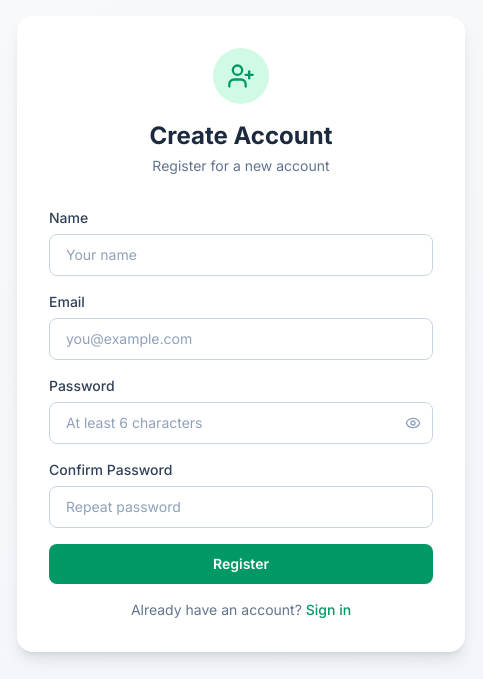
Test: RegisterPage › handles successful registration
In the field labelled "Name": (241, 255) [49,234,433,276], type "Test User"
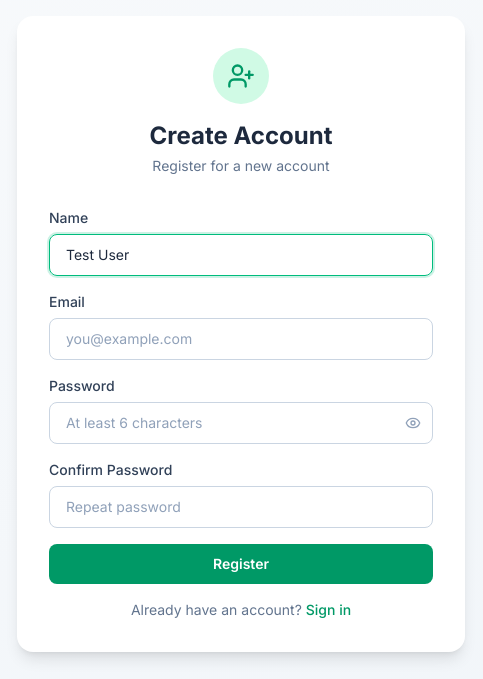
In the field labelled "Email": (241, 339) [49,318,433,360], type "test@test.com"
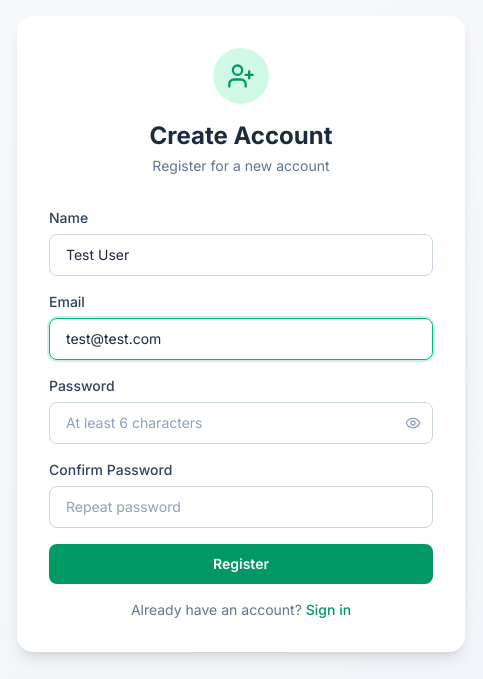
In the password field labelled "Password": (241, 423) [49,402,433,444], type "password123"
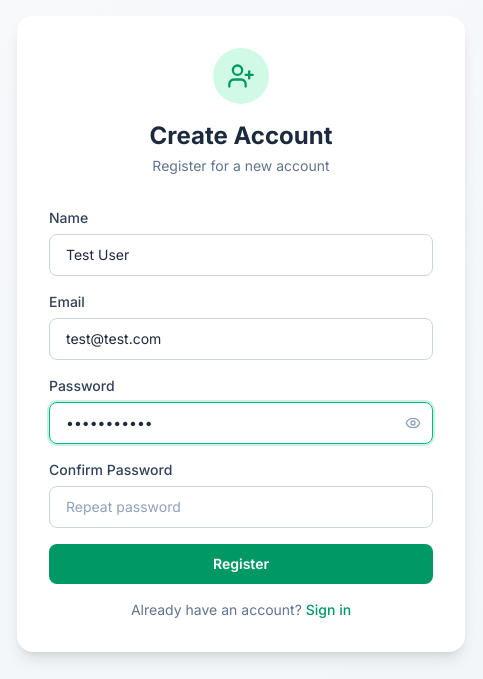
In the password field labelled "Confirm Password": (241, 507) [49,486,433,528], type "password123"
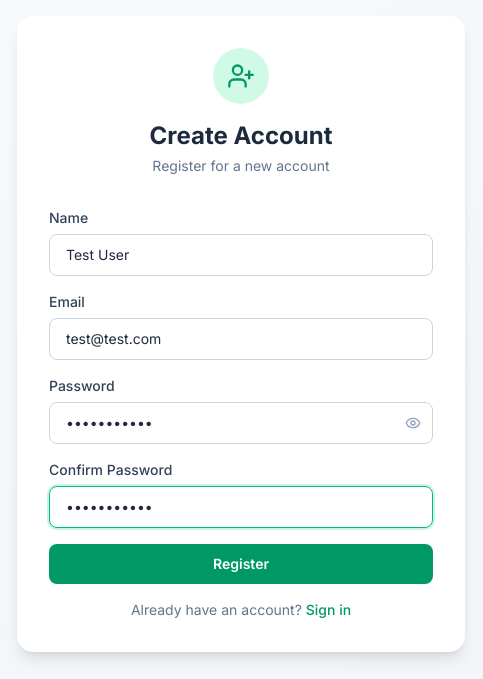
Click the button "Register": (241, 564) [49,544,433,584]
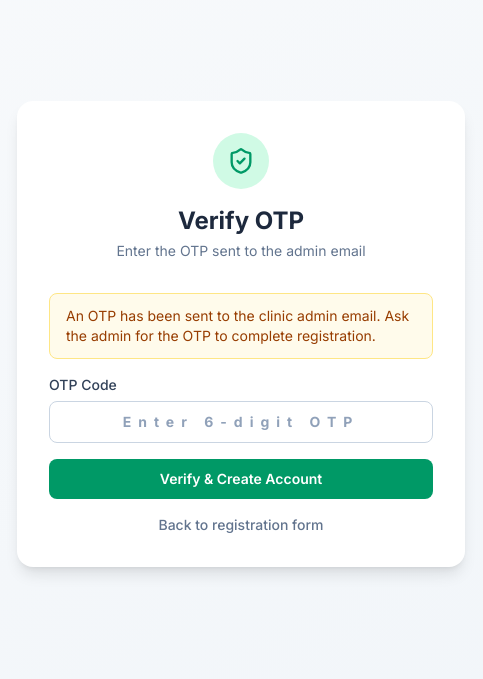
Expected: the heading "Verify OTP" is shown, [178,206,304,235]
